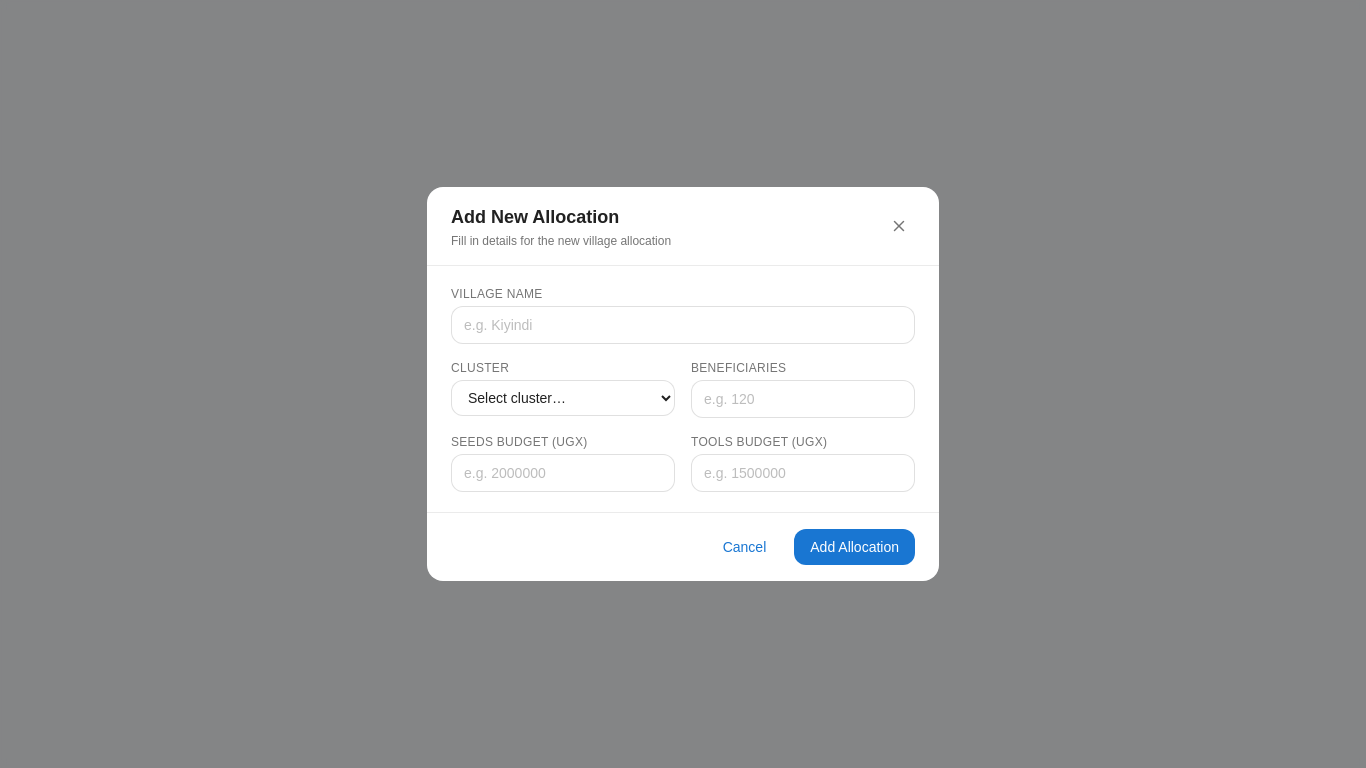
Test: validation › shows "Village name is required"
Step 1. Click the button "Add Allocation" → (855,547), box [794,529,915,565]
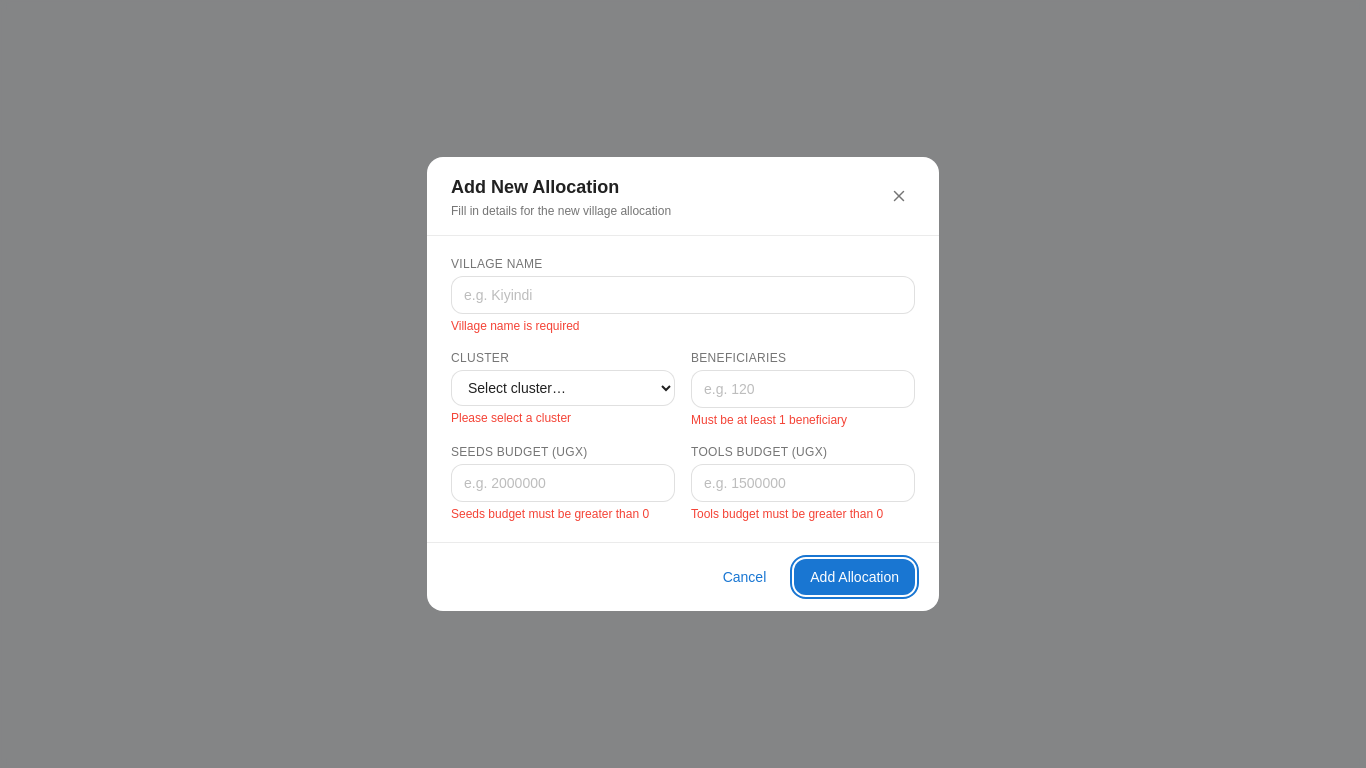
Check: the text "Village name is required" is shown, box [451,319,580,333]
